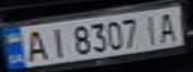0: (106, 18, 127, 51)
3: (87, 20, 109, 53)
7: (121, 16, 142, 48)
8: (69, 21, 93, 56)
A: (18, 28, 51, 63), (154, 9, 184, 43)
I: (42, 25, 72, 58), (139, 11, 166, 45)
